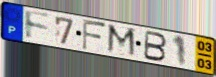1: (171, 35, 188, 68)
7: (53, 16, 75, 45)
B: (142, 29, 168, 63)
F: (81, 18, 109, 52), (24, 9, 52, 41)
M: (106, 23, 138, 60)
